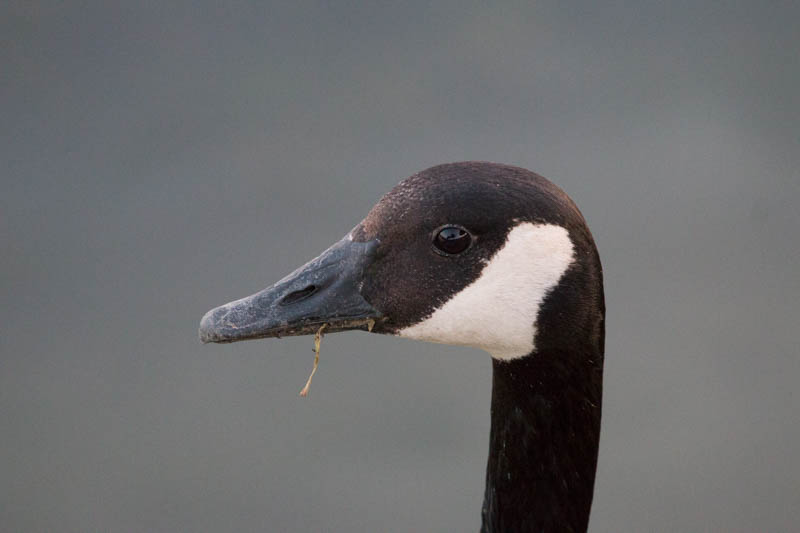goose-head: (197, 161, 605, 360)
